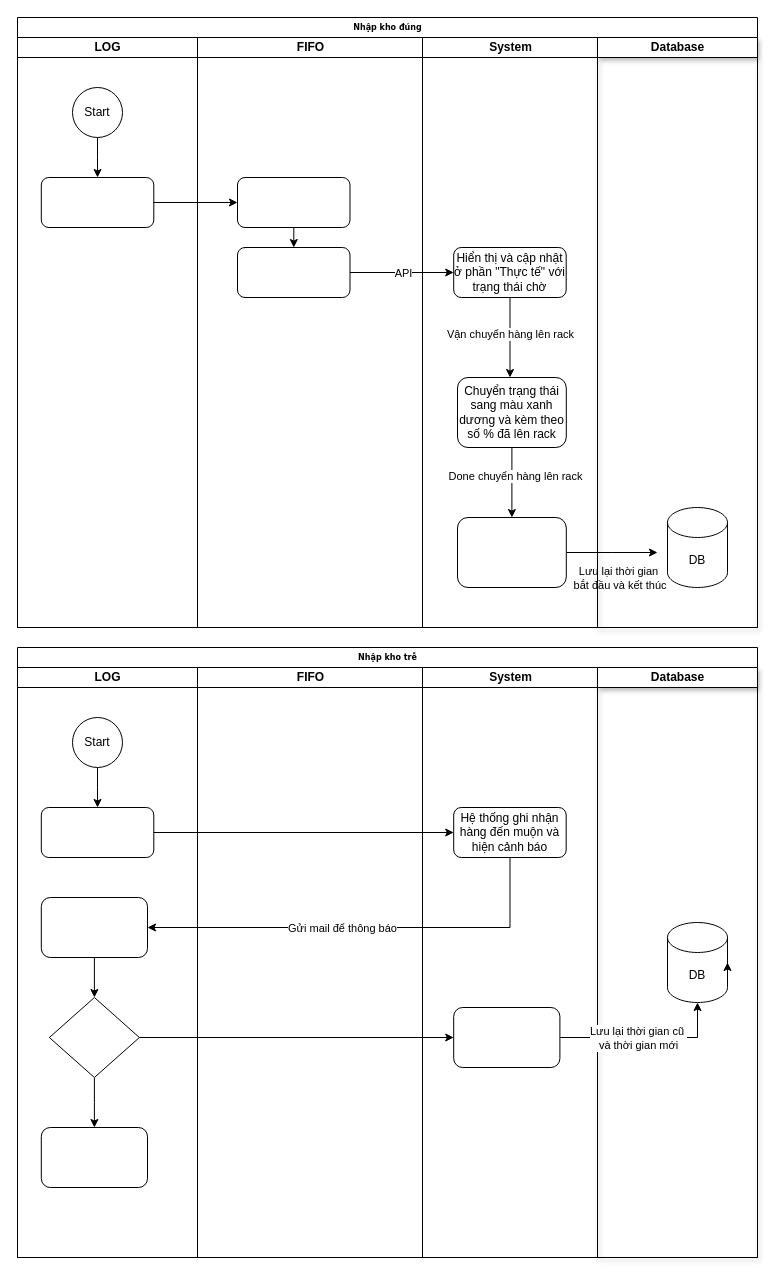
The diagram is 781 pixels wide and 1282 high, and some of its shapes have lost their labels. Here are the shapes that lost their labels. From the top down, the centre of each, then its label:
pixel 97 202: Hàng được giao đến
pixel 293 202: Xác nhận mã ASN
pixel 293 272: Trạng thái hàng thành đổi "Đã nhận"
pixel 511 552: Chuyển trạng thái sang màu xanh lá khi đã hoàn tất
pixel 97 832: Hàng giao đến trễ
pixel 94 927: Nhận mail thông báo hàng đén trễ
pixel 93 1037: Thay đổi kế hoạch?
pixel 506 1037: Thay đổi kế hoạch nhận hàng
pixel 94 1157: Giữ nguyên kế hoạch
